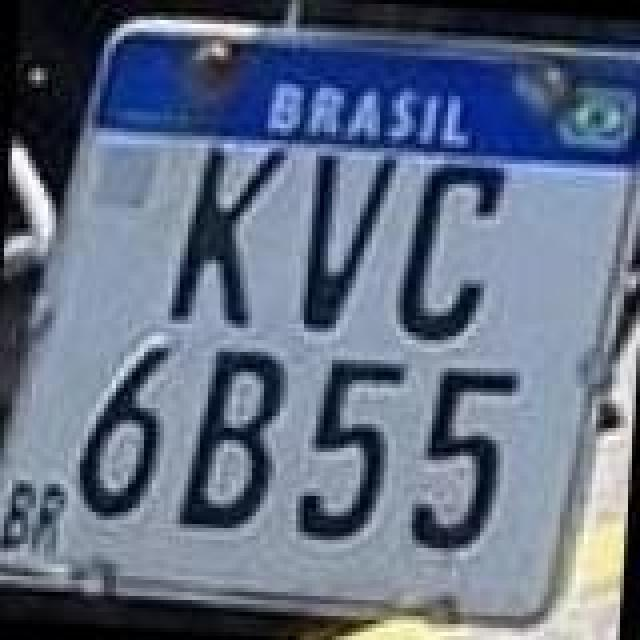5: (292, 348, 412, 548), (406, 360, 522, 560)
6: (64, 336, 176, 528)
B: (172, 342, 292, 538)
C: (388, 160, 508, 352)
K: (166, 138, 290, 334)
V: (292, 148, 396, 340)
